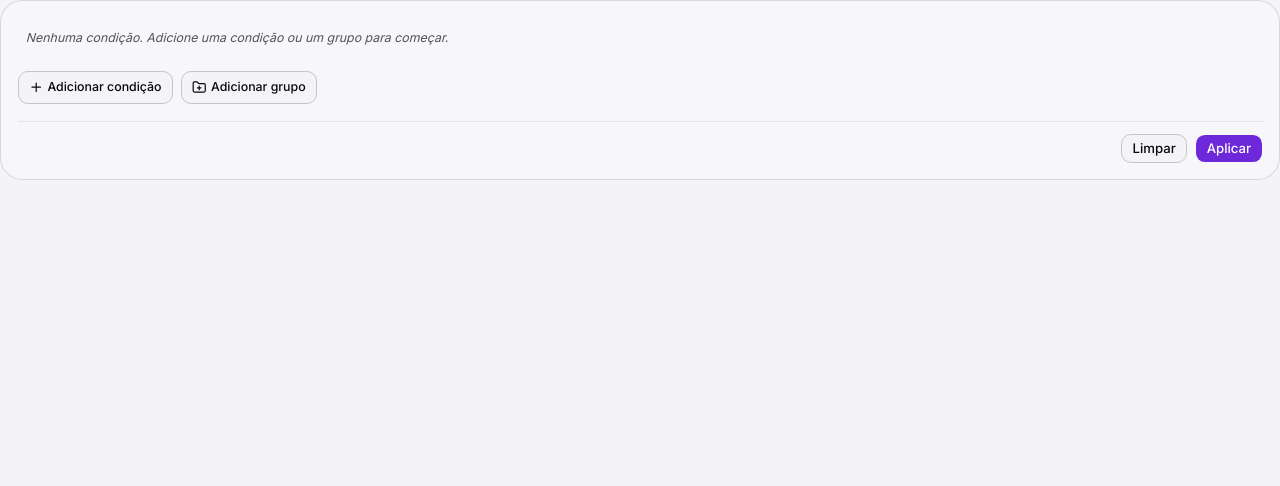
Test: ConditionalFilters v0.32 › 2 items: aparece conector E entre eles (default)
Step 1. Click the button "Adicionar condição" → (95, 88), box x1=18 y1=71 x2=173 y2=104
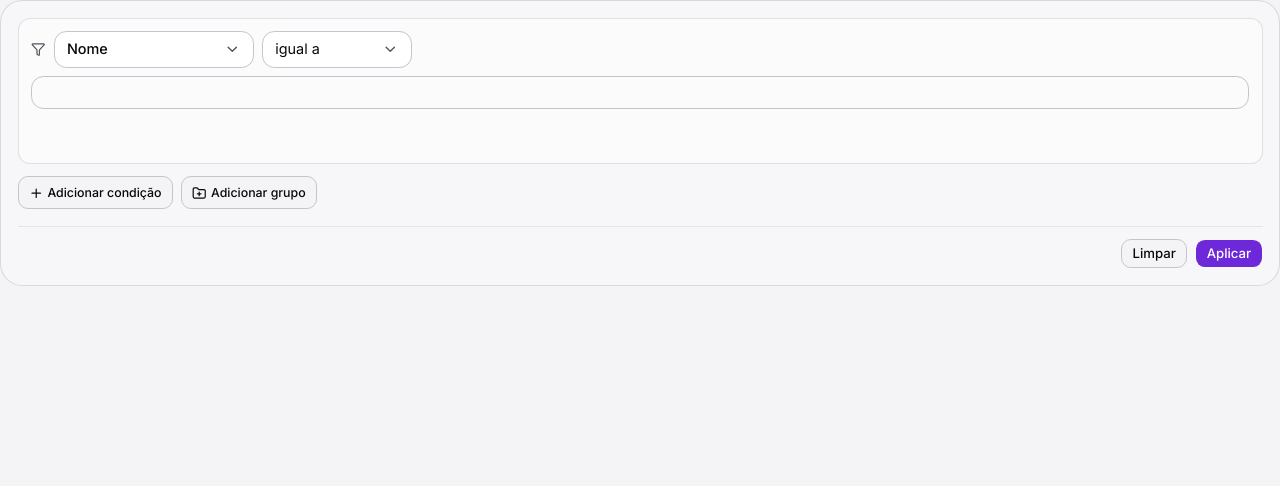
Step 2. Click the button "Adicionar condição" → (95, 193), box x1=18 y1=176 x2=173 y2=209
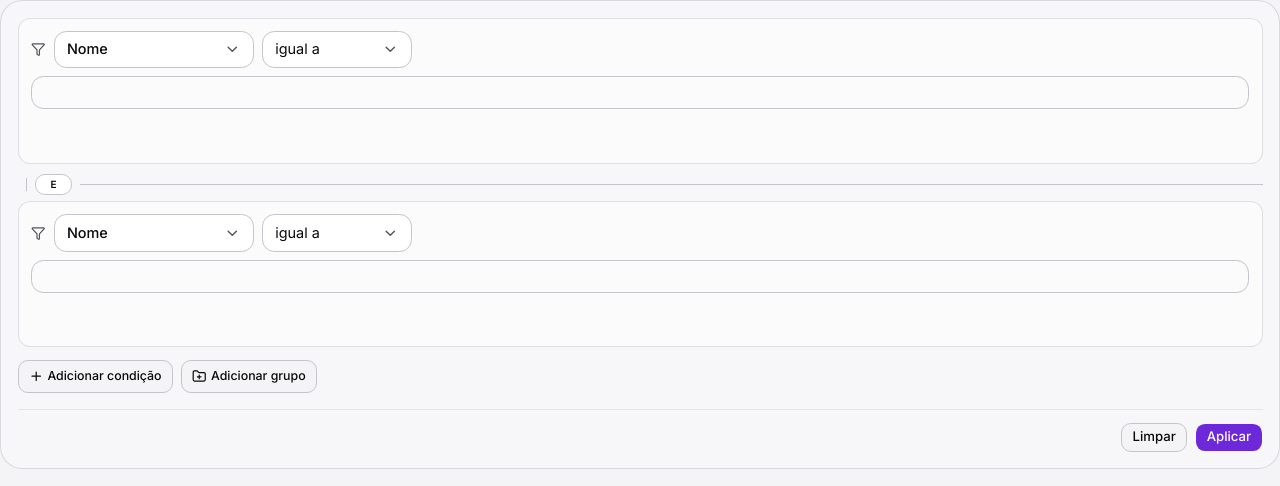
Expected: the button named "Mudar operador para OU" is shown, x1=35 y1=174 x2=72 y2=195
